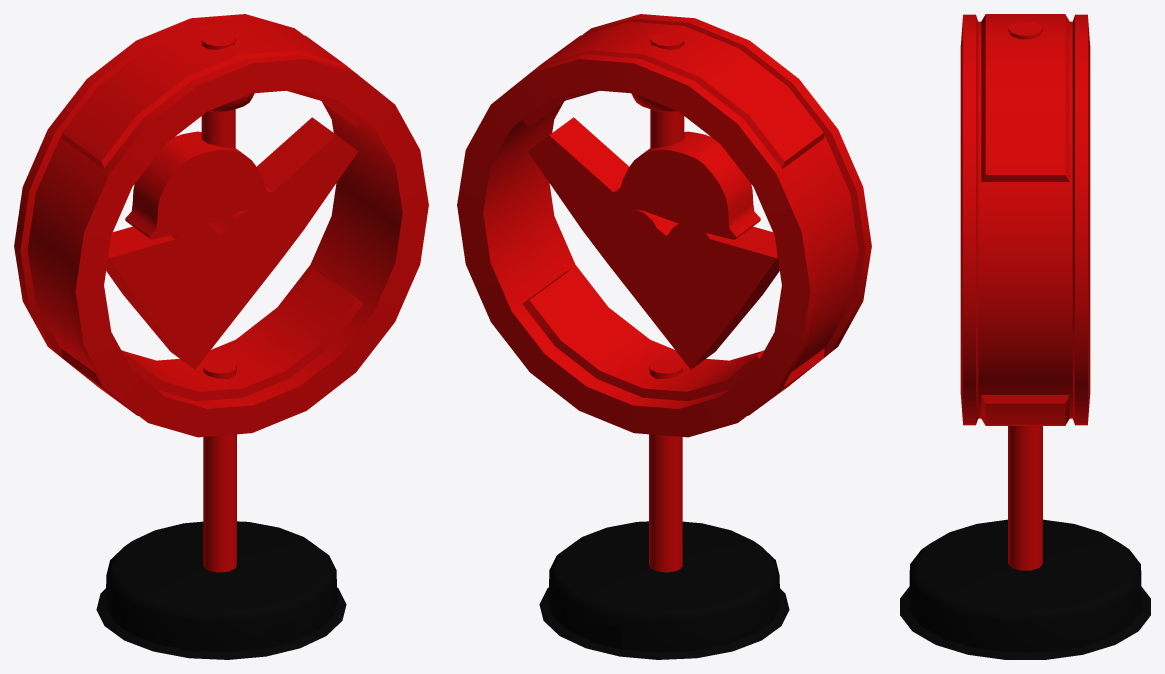
File: CheckitRotatingSign.fbx
3 renders of one model, left to right at view 1: azimuth 30°, elevation 25°; view 2: azimuth 150°, elevation 25°; view 3: azimuth 270°, elevation 25°, orthographic.
Visible parts, largest first — view 1: SM_ResourceSinkShop_01; view 2: SM_ResourceSinkShop_01; view 3: SM_ResourceSinkShop_01.
Part boxes in pixels (bbox=[...]): SM_ResourceSinkShop_01: bbox=[14, 14, 428, 659]; SM_ResourceSinkShop_01: bbox=[457, 14, 871, 659]; SM_ResourceSinkShop_01: bbox=[900, 14, 1150, 659].
Size of the model in its own units: 137 by 212 by 83.19.
